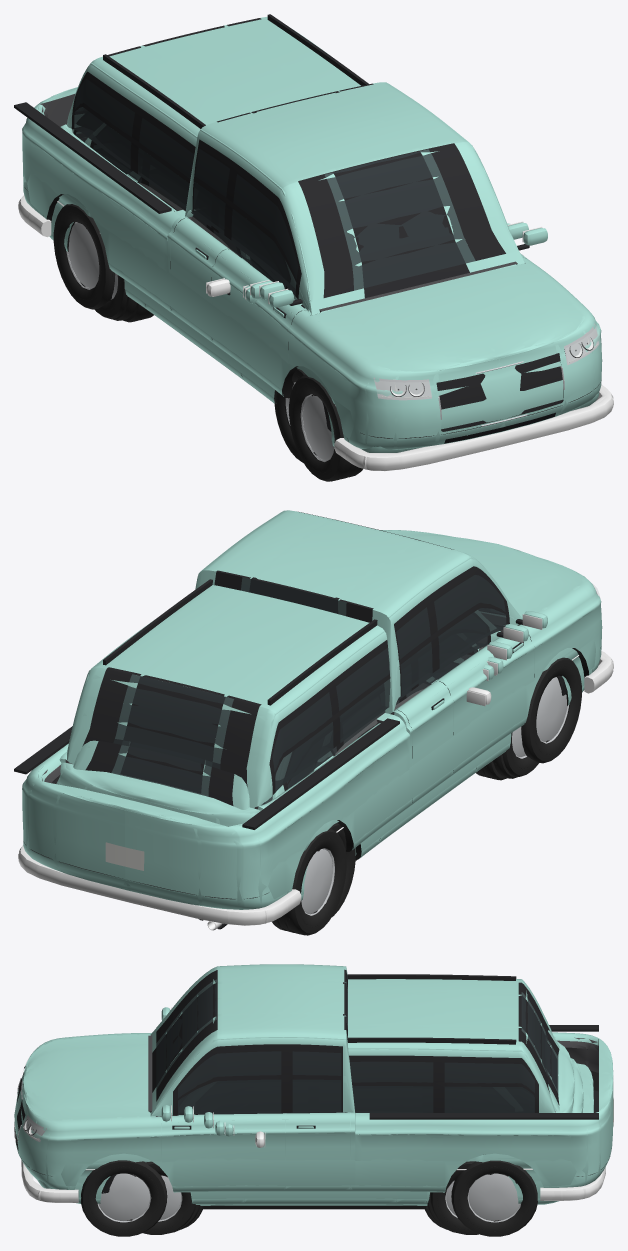
The model's file is parked.glb.
3 renders of one model, top to bottom at view 1: azimuth 30°, elevation 25°; view 2: azimuth 150°, elevation 25°; view 3: azimuth 270°, elevation 25°, orthographic. The views are drawn at different scales.
Parts seen in each view (by area): view 1: pickup_body, pickup_gh, pickup_gh.001, pickup_body_L1, pickup_glass, suv_gh, suv_glass, pickup_trim, suv_gh.001, coupe_trim, pickup_wheel_RR_mesh, pickup_wheel_FR_mesh (+10 smaller); view 2: pickup_body, suv_gh, pickup_gh, suv_glass, pickup_body_L1, suv_gh.001, pickup_glass, pickup_gh.001, coupe_trim, pickup_trim, suv_body, wagon_glass (+13 smaller); view 3: pickup_body, pickup_body_L1, pickup_gh, suv_gh, pickup_glass, suv_glass, pickup_gh.001, suv_gh.001, pickup_glass_L1, suv_glass_L1, pickup_trim, pickup_wheel_RL_mesh (+18 smaller).
Part boxes in pixels (bbox=[...]): pickup_body: bbox=[22, 87, 601, 449]; pickup_gh: bbox=[185, 82, 519, 311]; pickup_gh.001: bbox=[188, 83, 524, 314]; pickup_body_L1: bbox=[22, 87, 602, 449]; pickup_glass: bbox=[193, 148, 475, 296]; suv_gh: bbox=[67, 16, 360, 304]; suv_glass: bbox=[74, 79, 286, 289]; pickup_trim: bbox=[14, 102, 600, 443]; suv_gh.001: bbox=[70, 25, 327, 294]; coupe_trim: bbox=[18, 195, 613, 471]; pickup_wheel_RR_mesh: bbox=[53, 204, 114, 309]; pickup_wheel_FR_mesh: bbox=[289, 374, 362, 481]; pickup_body: bbox=[22, 530, 601, 909]; suv_gh: bbox=[67, 585, 500, 808]; pickup_gh: bbox=[195, 510, 520, 713]; suv_glass: bbox=[113, 614, 487, 792]; pickup_body_L1: bbox=[22, 530, 602, 908]; suv_gh.001: bbox=[74, 592, 495, 786]; pickup_glass: bbox=[241, 575, 506, 695]; pickup_gh.001: bbox=[199, 512, 522, 680]; coupe_trim: bbox=[18, 651, 613, 930]; pickup_trim: bbox=[14, 585, 599, 920]; suv_body: bbox=[56, 690, 566, 826]; wagon_glass: bbox=[111, 741, 314, 805]; pickup_body: bbox=[15, 1032, 613, 1192]; pickup_body_L1: bbox=[14, 1034, 611, 1191]; pickup_gh: bbox=[156, 964, 355, 1116]; suv_gh: bbox=[178, 979, 555, 1115]; pickup_glass: bbox=[156, 979, 347, 1114]; suv_glass: bbox=[200, 992, 547, 1114]; pickup_gh.001: bbox=[150, 966, 350, 1116]; suv_gh.001: bbox=[348, 979, 550, 1112]; pickup_glass_L1: bbox=[178, 1079, 341, 1114]; suv_glass_L1: bbox=[352, 1086, 534, 1112]; pickup_trim: bbox=[14, 1007, 613, 1141]; pickup_wheel_RL_mesh: bbox=[451, 1160, 537, 1236].
Size of the model in its own units: 2.31 by 1.93 by 5.37.
